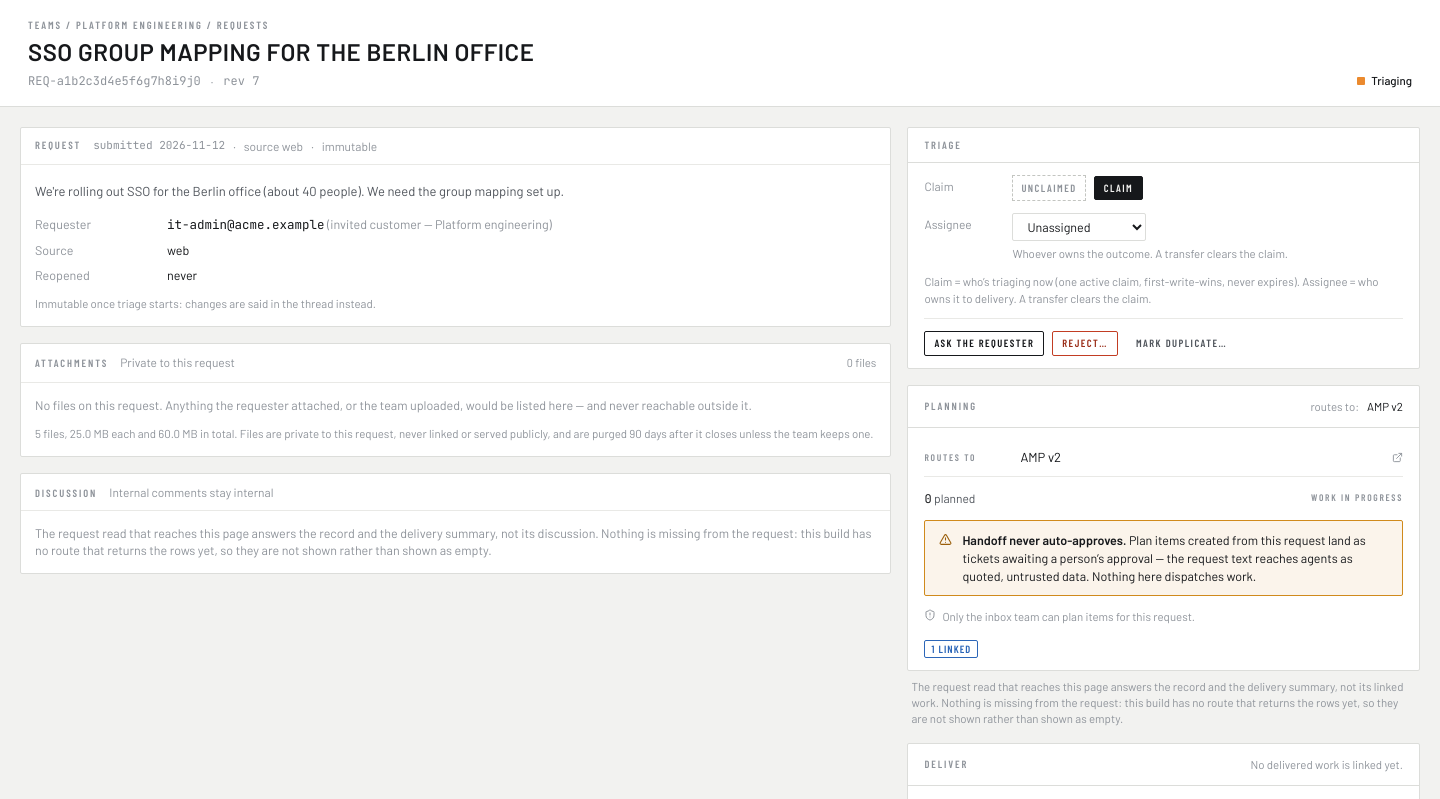
it: every approved detail state › renders the conflict reading from a lost claim race, over the request’s whole body
Click the button "Claim": (1118, 188) [1094, 176, 1143, 200]
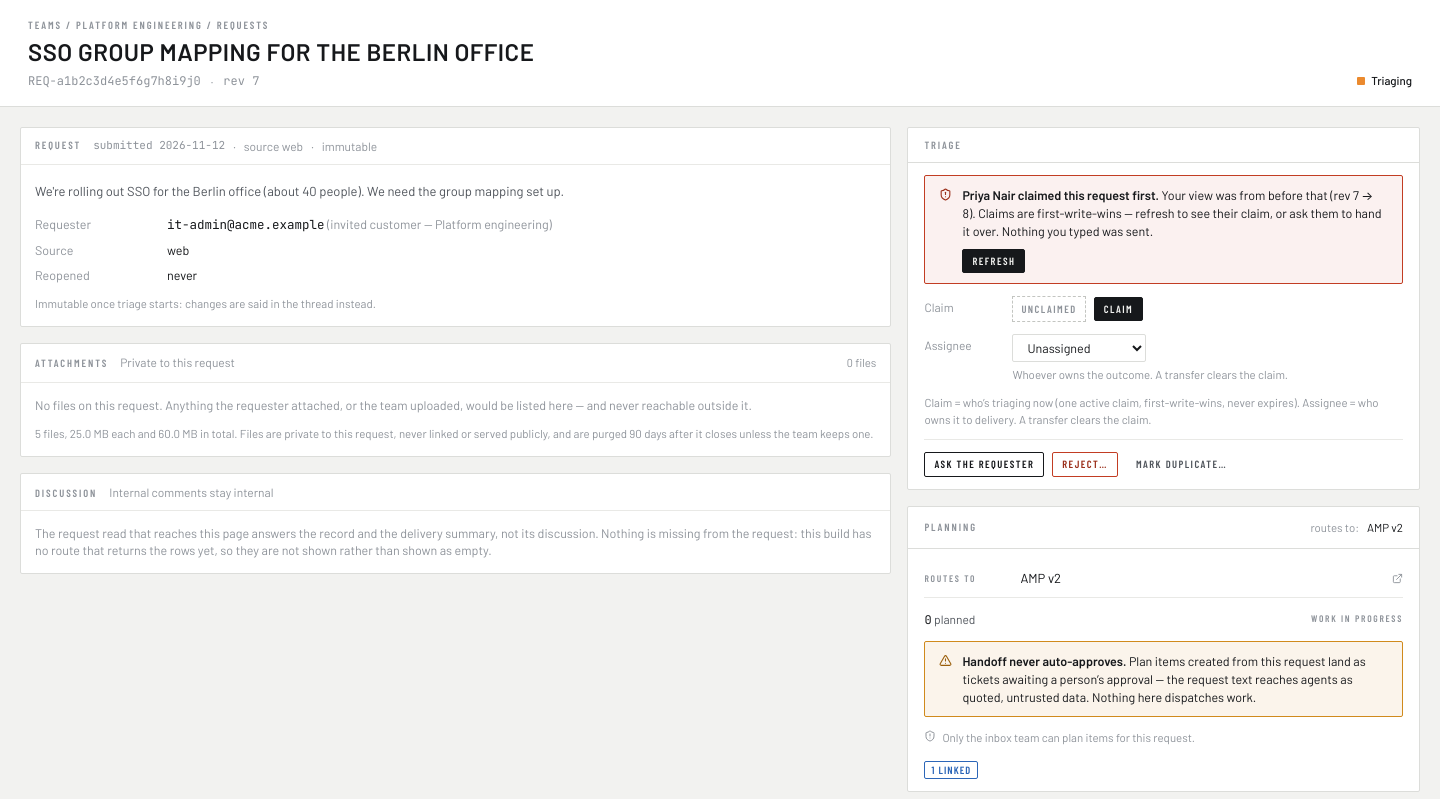
Expected: the element with test id "request-brief" is shown, [35, 183, 564, 199]
Now the message shows "Priya Nair", box [962, 187, 1159, 203]
Now the message shows "first-write-wins", box [962, 187, 1382, 240]
